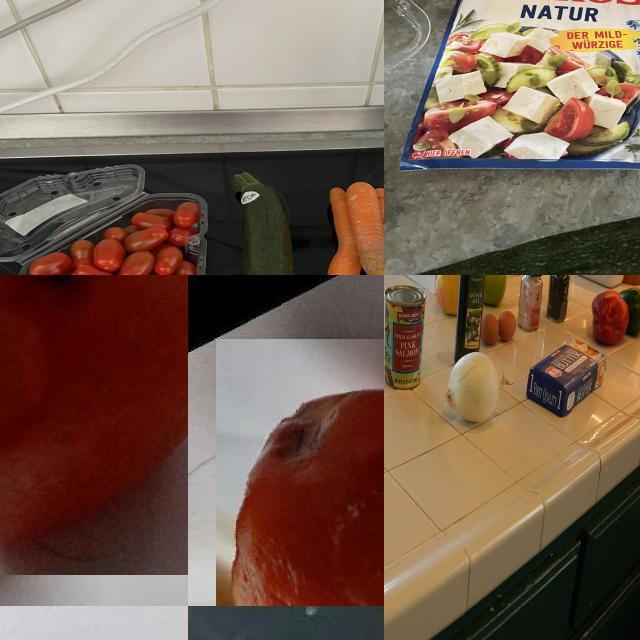bell_pepper: (592, 289, 629, 345), (618, 286, 640, 337), (547, 276, 570, 322)
carrot: (323, 181, 369, 276), (346, 175, 385, 276), (368, 180, 385, 276)
cucumber: (385, 180, 640, 276)
egg: (499, 312, 519, 344), (479, 316, 500, 346)
onion: (444, 350, 514, 430)
tomato: (18, 199, 206, 276)
zucchini: (226, 165, 303, 276)
